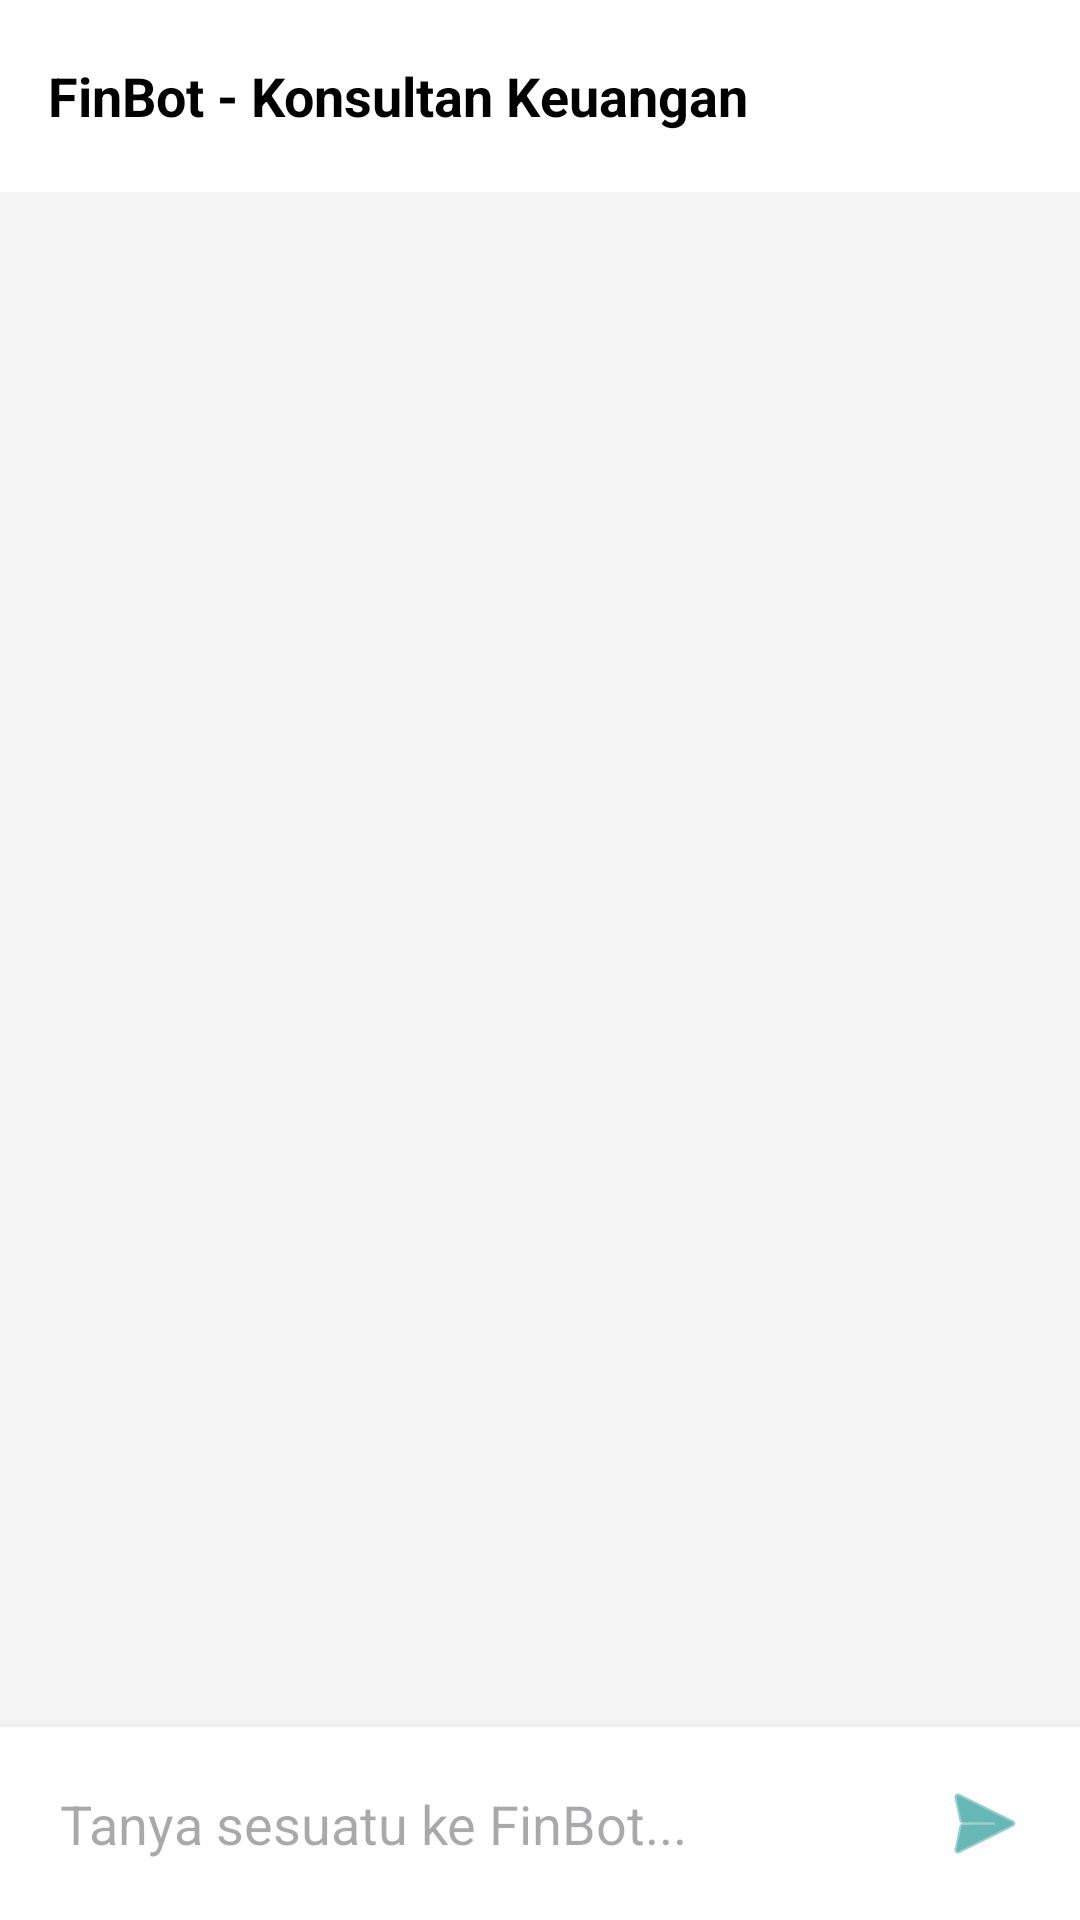

Point at icon controls on the screen. Image size 1080 x 1920, points as (x=x, y=y).
send: (x=985, y=1823)
